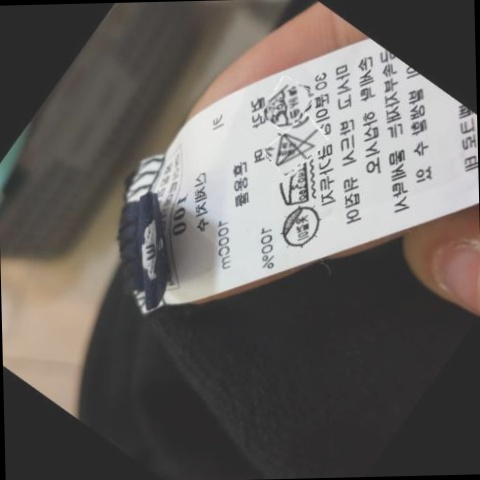hand_wash: (264, 80, 305, 126)
iron_medium: (274, 166, 311, 205)
line_dry_in_shade: (275, 203, 323, 250)
non_chlorine_bleach: (272, 130, 316, 165)
